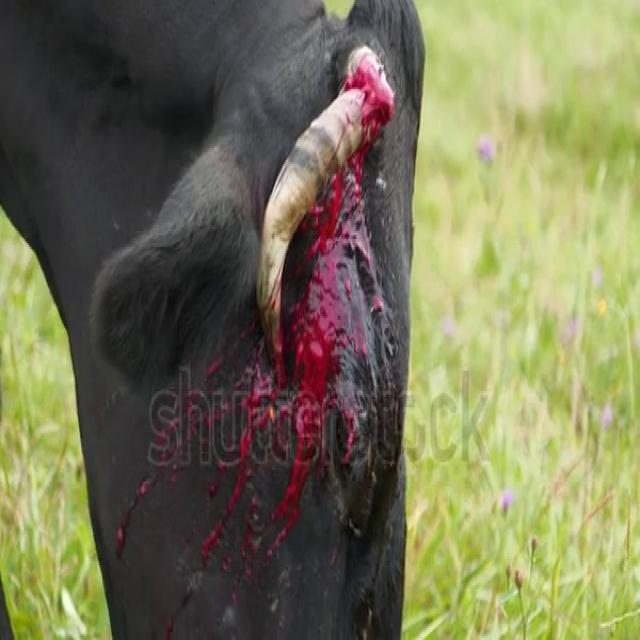injured-animals: (0, 0, 430, 638)
